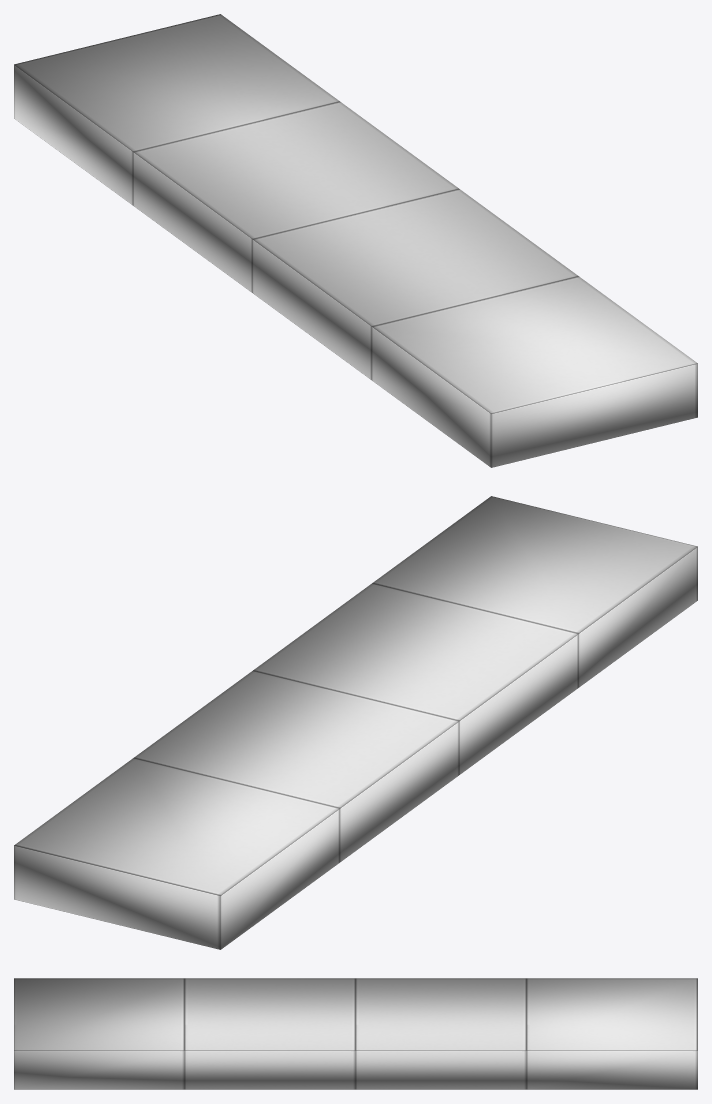
File: Floor-04.fbx
3 views of the same model, one above another, from view 1: azimuth 30°, elevation 25°; view 2: azimuth 150°, elevation 25°; view 3: azimuth 270°, elevation 25° (orthographic). The views are drawn at different scales.
Visible parts, largest first — view 1: Floor-04; view 2: Floor-04; view 3: Floor-04.
Part boxes in pixels (x1,y1,x2,y2): Floor-04: (14, 14, 697, 467); Floor-04: (14, 496, 697, 949); Floor-04: (14, 978, 697, 1089).
Bounding box in the file's own units: 1 × 0.25 × 4.
